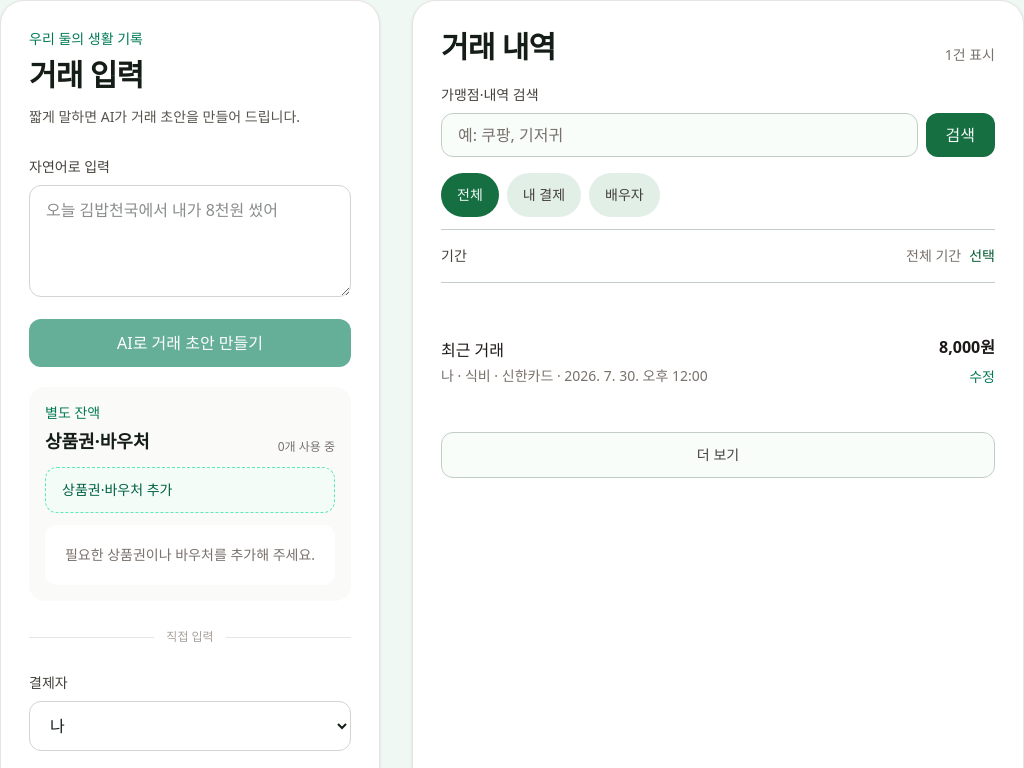
Test: TransactionsPage › keeps loaded transactions visible when loading the next page fails
This screenshot has width=1024, height=768.
expect the text "최근 거래" is shown: met, box [441, 338, 504, 360]
Click the button "더 보기" at point(718, 455), box [441, 432, 995, 478]
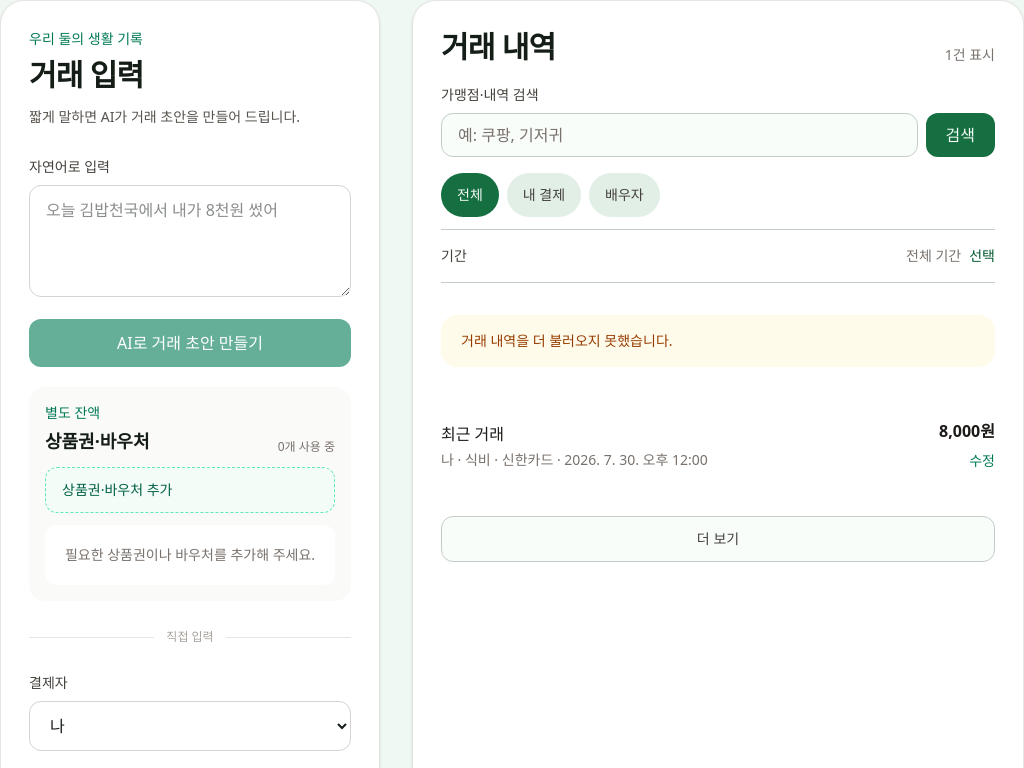
expect the text "최근 거래" is shown: met, box [441, 422, 504, 444]
expect the text "거래 내역을 더 불러오지 못했습니다." is shown: met, box [441, 315, 995, 367]
